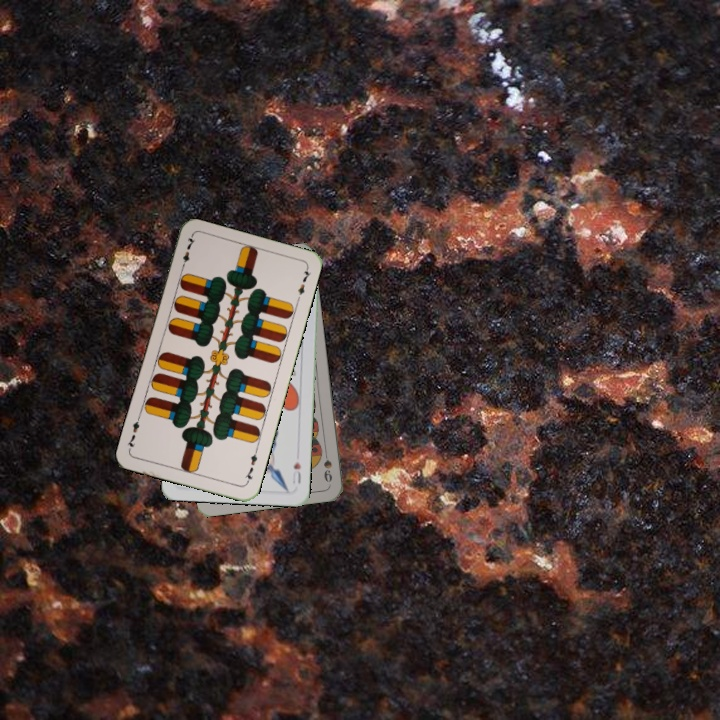E7: (240, 446, 260, 486), (177, 233, 197, 272)
HU: (288, 458, 303, 487)
S9: (320, 445, 335, 485)
